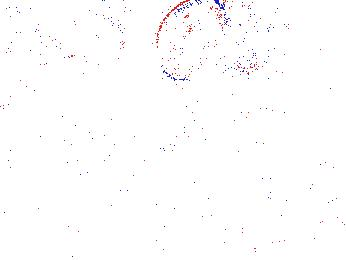moon jellyfish: (6, 1, 128, 56), (156, 1, 226, 81), (203, 1, 271, 76), (1, 29, 53, 101)
